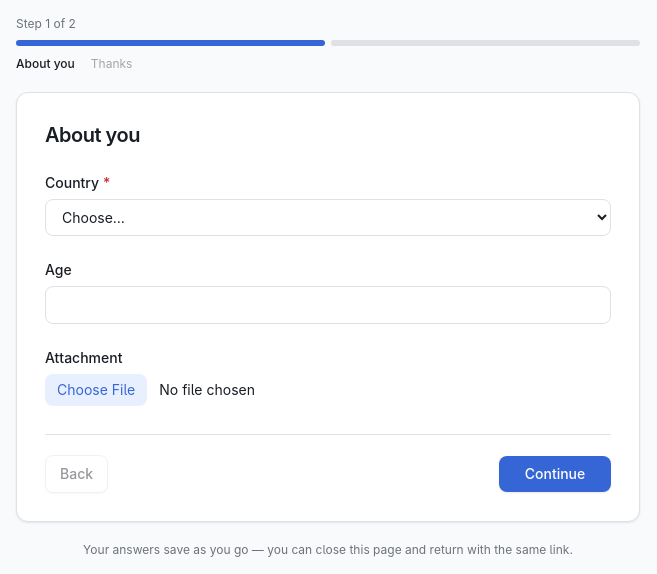
Test: conditional logic › hides it again when the answer changes back
This screenshot has width=657, height=574.
Expected: the heading "About you" is shown, [45,123,140,147]
Select "Saudi Arabia" in the dropdown labelled "Country*". click: [328, 218]
box: [45,199,611,236]
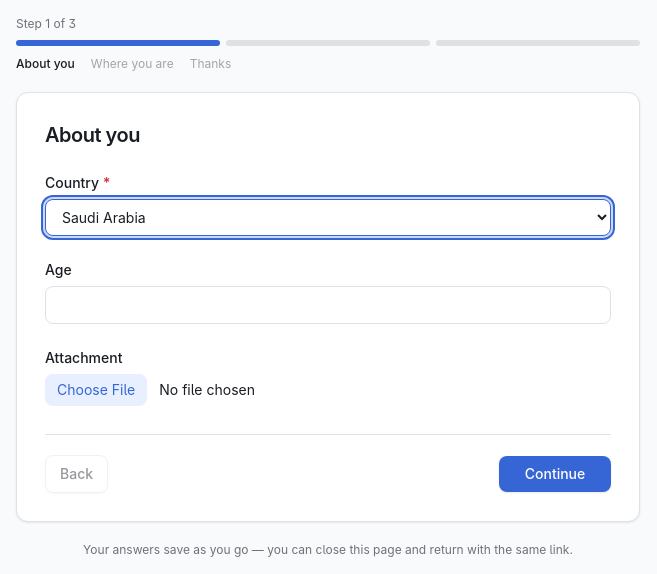
Expected: the text "Step 1 of 3" is shown, [16,16,76,32]
Select "Egypt" in the dropdown labelled "Country*". click: [328, 218]
box: [45,199,611,236]
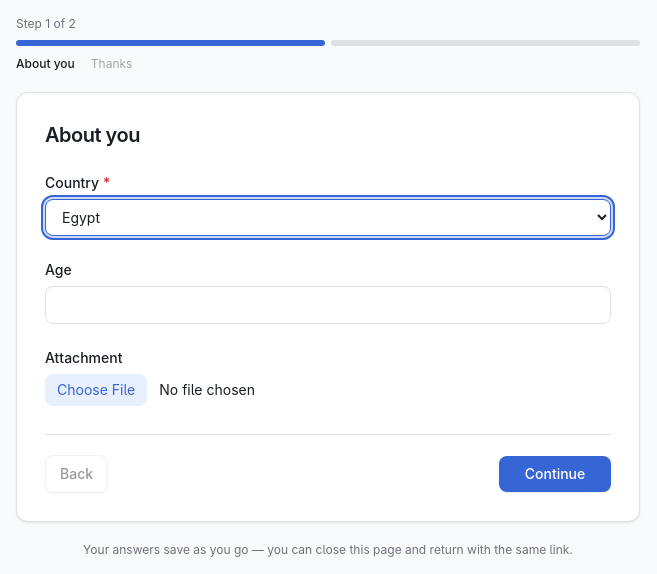
Expected: the text "Step 1 of 2" is shown, [16,16,76,32]
